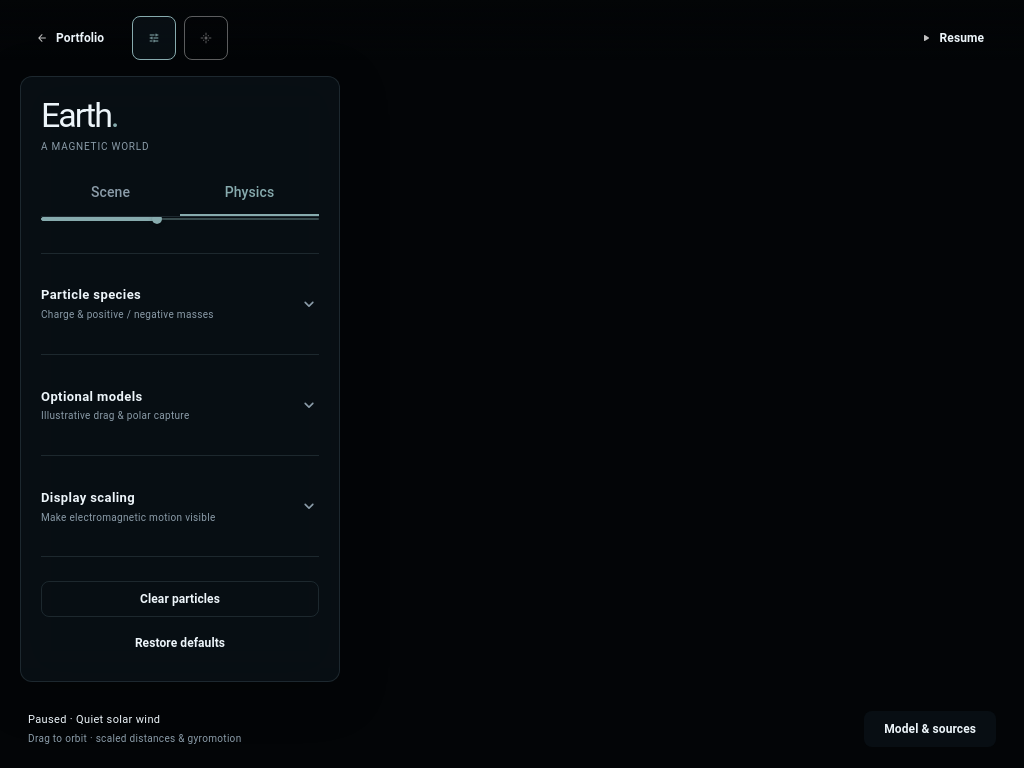
Earth controls panel › restores and resets saved settings from either tab
The width and height of the screenshot is (1024, 768).
(page scrolled)
expect the button "Resume" is shown: met, box [904,20,1004,56]
Click the button "Restore defaults": (180, 644) [41,626,319,662]
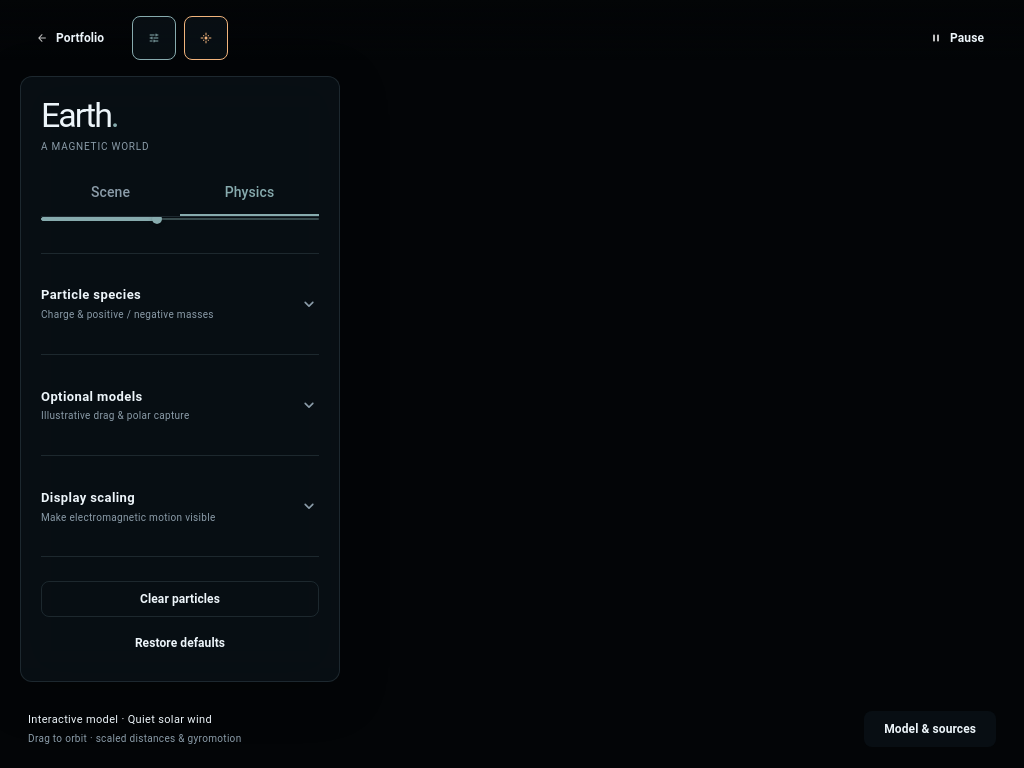
expect the button "Pause" is shown: met, box [914,20,1004,56]
Click the button named "Hide Earth controls": (154, 38) [132,16,176,60]
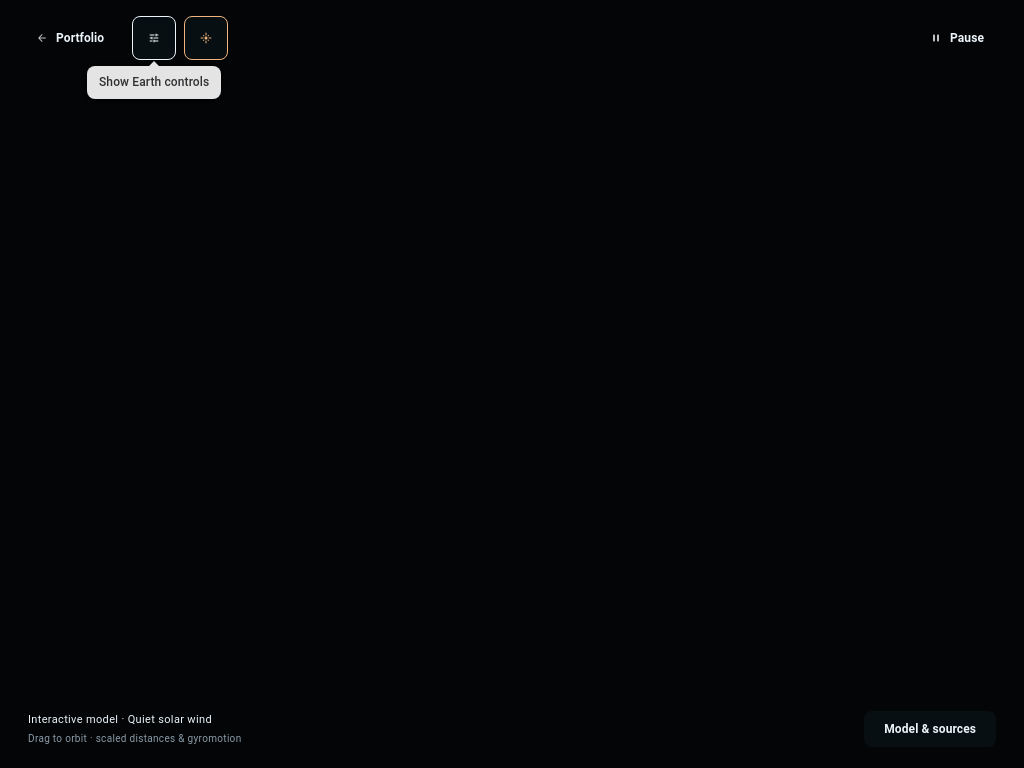
expect the tab is gone: met
expect the button named "Show Earth controls" is collapsed: met, box [132,16,176,60]
